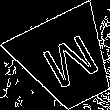M_SE: (32, 28, 102, 94)
